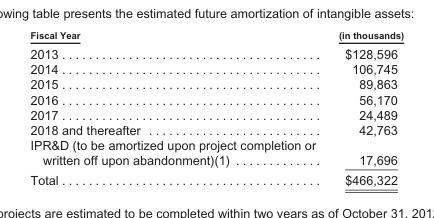table: (29, 29, 403, 187)
table column: (29, 29, 326, 187), (326, 29, 403, 187)
table column header: (29, 29, 403, 43)
table row: (29, 136, 403, 169), (29, 43, 403, 61), (29, 169, 403, 187), (29, 61, 403, 76), (29, 76, 403, 91), (29, 91, 403, 106), (29, 106, 403, 121), (29, 121, 403, 136), (29, 29, 403, 43)
